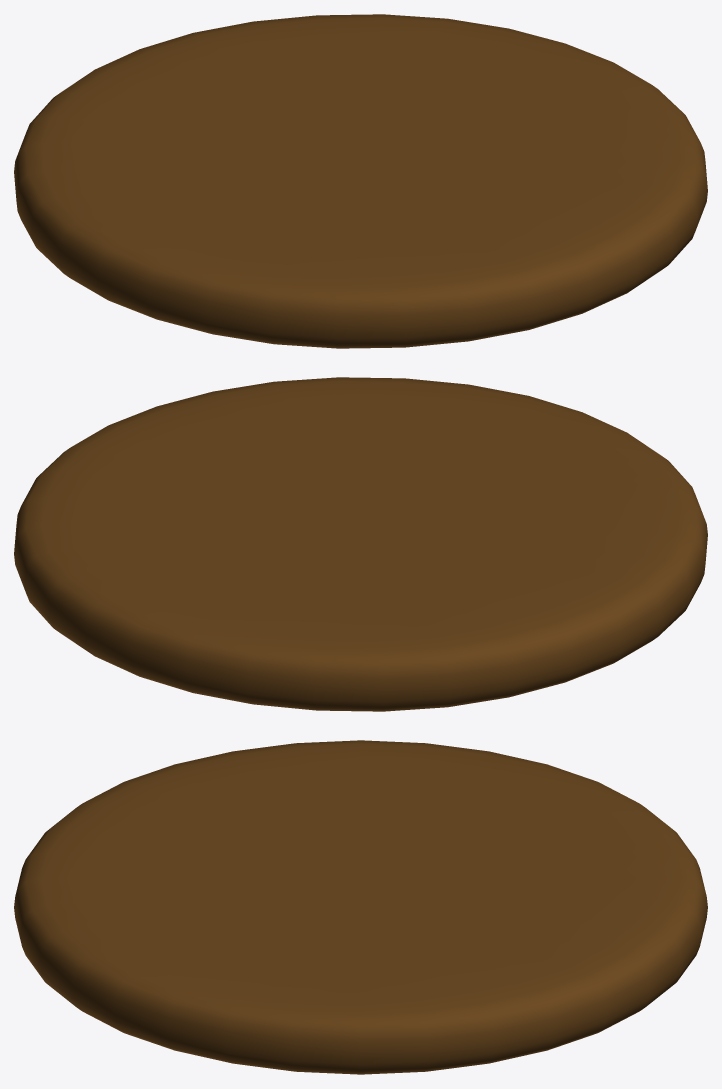
Rendered from patty.fbx.
3 renders of one model, top to bottom at view 1: azimuth 30°, elevation 25°; view 2: azimuth 150°, elevation 25°; view 3: azimuth 270°, elevation 25°, orthographic.
Visible parts, largest first — view 1: Circle.002; view 2: Circle.002; view 3: Circle.002.
Boxes of the visible parts, x1,y1,x2,y2 form: Circle.002: [14, 14, 707, 348]; Circle.002: [14, 377, 707, 711]; Circle.002: [14, 740, 707, 1074].
Size of the model in its own units: 180 by 16.92 by 180.
